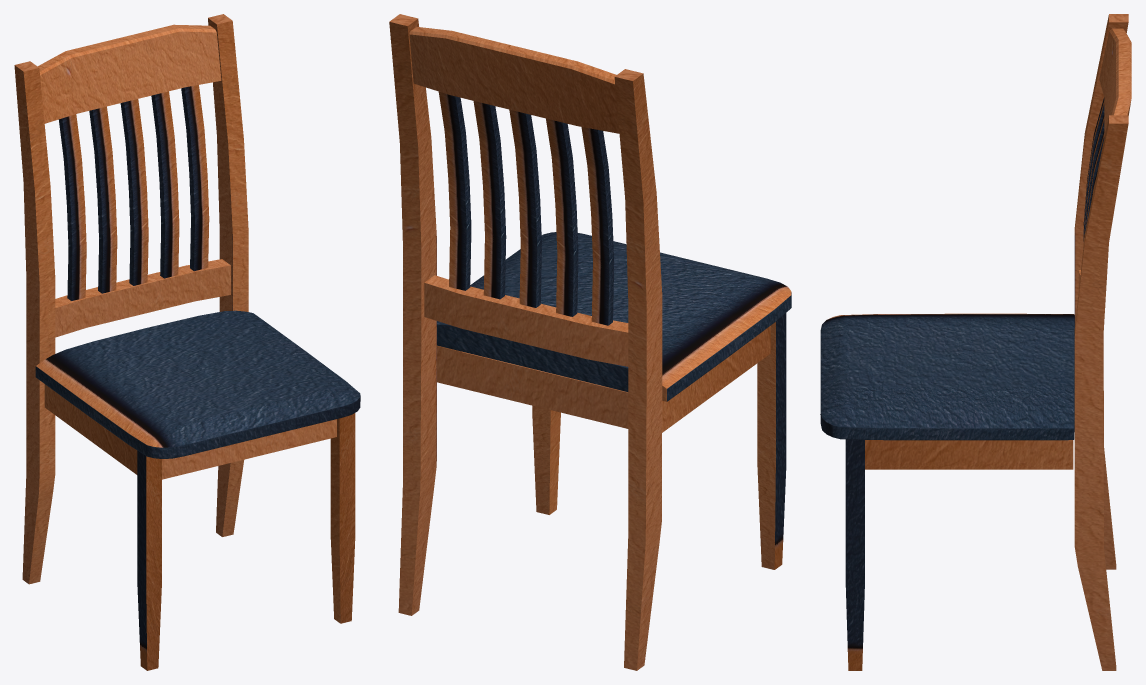
Rendered from dinnerchair.glb.
The picture shows the model from 3 angles, left to right: view 1: azimuth 30°, elevation 25°; view 2: azimuth 150°, elevation 25°; view 3: azimuth 270°, elevation 25°; orthographic projection. The views are drawn at different scales.
Visible parts, largest first — view 1: chair_chair_0; view 2: chair_chair_0; view 3: chair_chair_0.
Part boxes in pixels (<box>): chair_chair_0: <box>14,14,360,670</box>; chair_chair_0: <box>389,14,791,670</box>; chair_chair_0: <box>820,14,1131,670</box>.
Bounding box in the file's own units: 1.21 × 2.72 × 1.39.
Materials: 1 (1 with a texture image).
